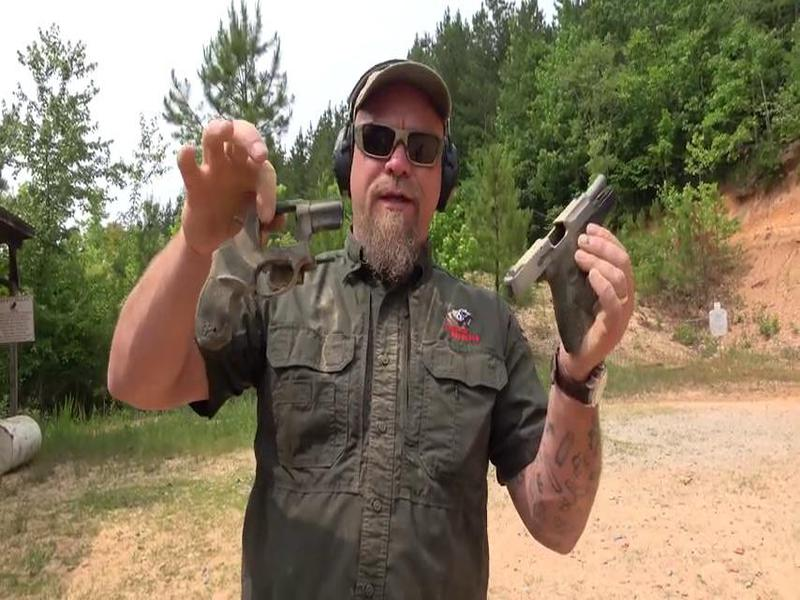Pistola: (508, 154, 654, 368)
Revolver: (199, 168, 359, 372)
